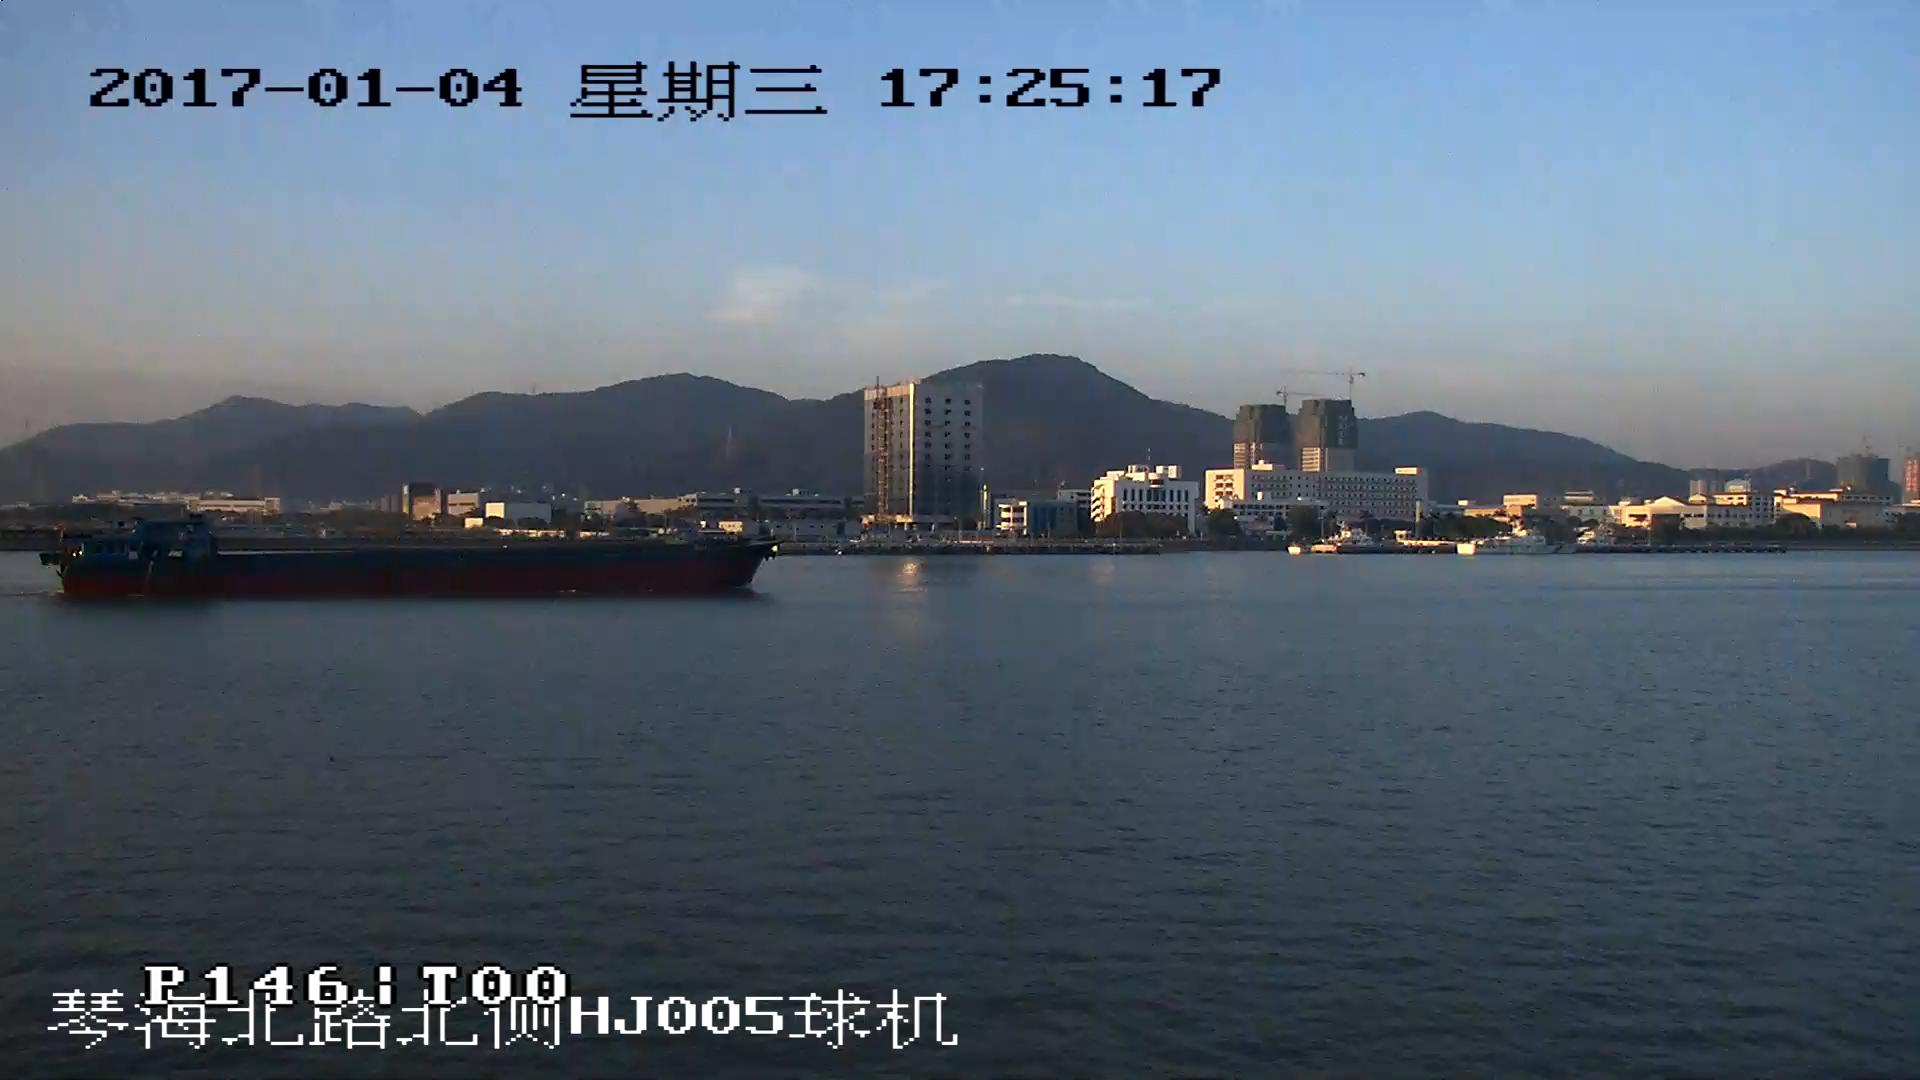general cargo ship: (42, 499, 765, 590)
